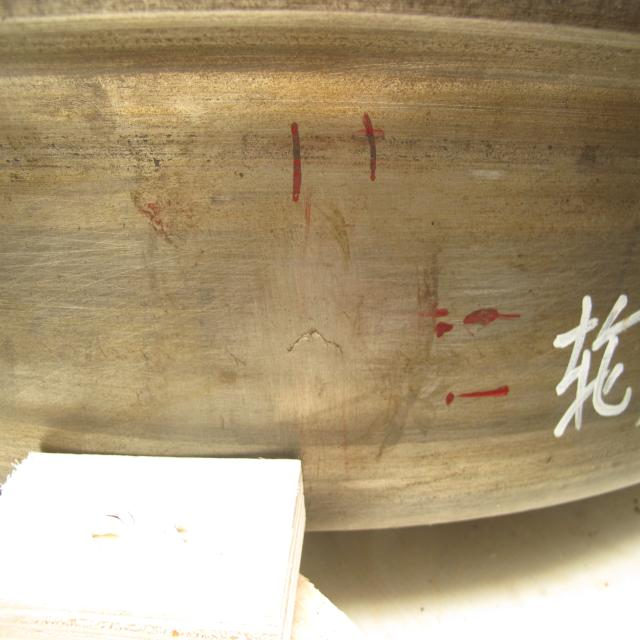Contact_Fatigue_Cracks: (291, 326, 347, 362)
